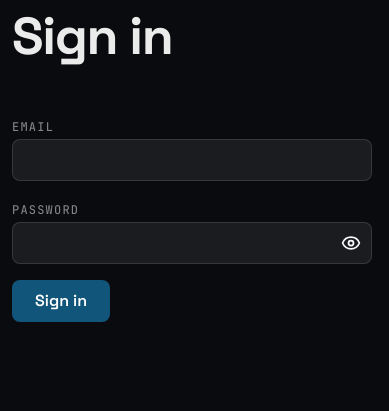
Scenario: LoginForm › shouldShowTheServersThrottleSentenceOnTooManyAttempts
The image size is (389, 411).
In the field labelled "Email": (192,160) [12, 139, 372, 181], type "user@example.com"
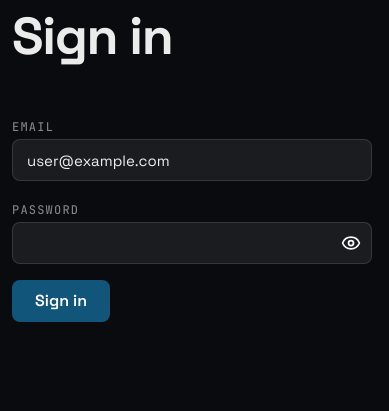
In the password field labelled "Password": (192,243) [13, 223, 371, 263], type "correct horse battery staple"
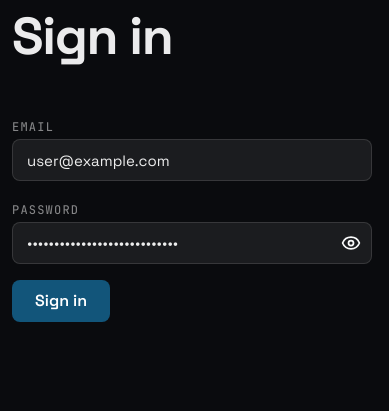
Click the button "Sign in": (61,301) [12, 280, 110, 322]
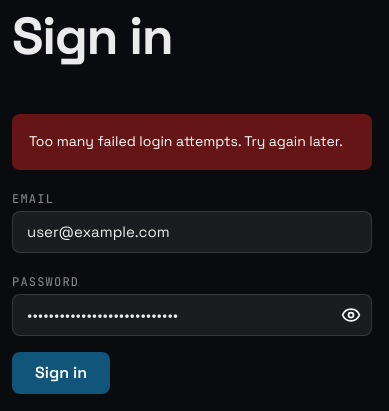
expect the message reads "Too many failed login attempts. Try again later.": met, box [29, 132, 343, 150]
